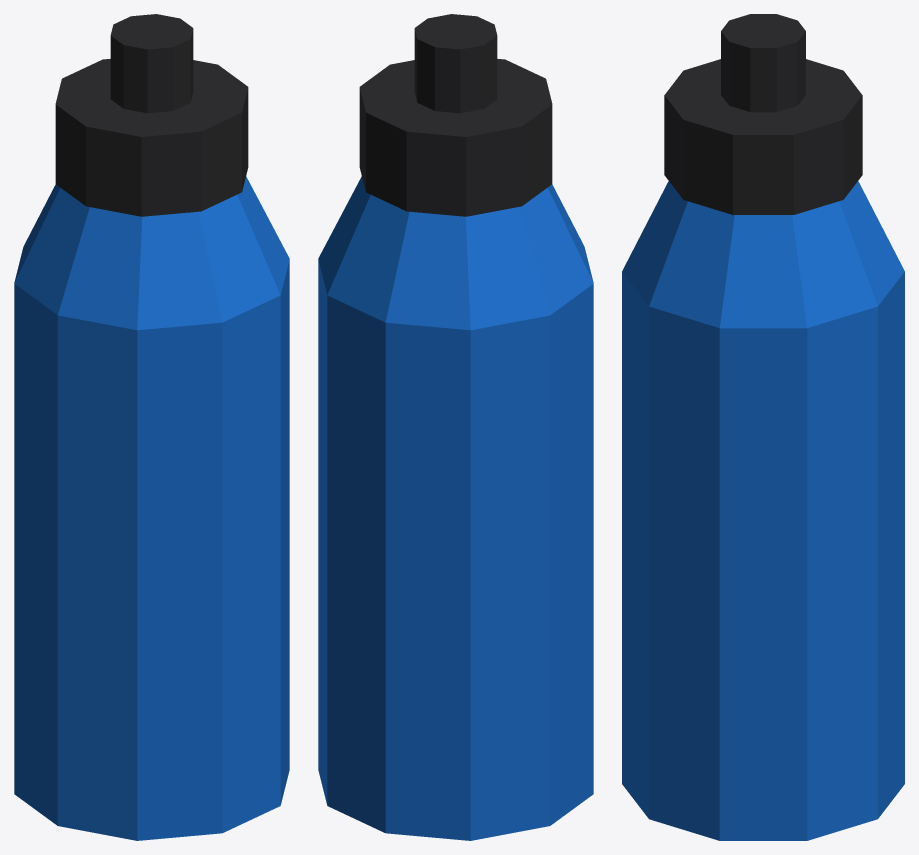
Rendered from botella.obj.
3 views of the same model, side by side, from view 1: azimuth 30°, elevation 25°; view 2: azimuth 150°, elevation 25°; view 3: azimuth 270°, elevation 25° (orthographic).
Parts seen in each view (by area): view 1: Botella_Agua; view 2: Botella_Agua; view 3: Botella_Agua.
Part boxes in pixels (left/top/right/bottom): Botella_Agua: left=14, top=14, right=289, bottom=840; Botella_Agua: left=318, top=14, right=593, bottom=840; Botella_Agua: left=622, top=14, right=904, bottom=840.
Size of the model in its own units: 0.0761 by 0.235 by 0.08.
